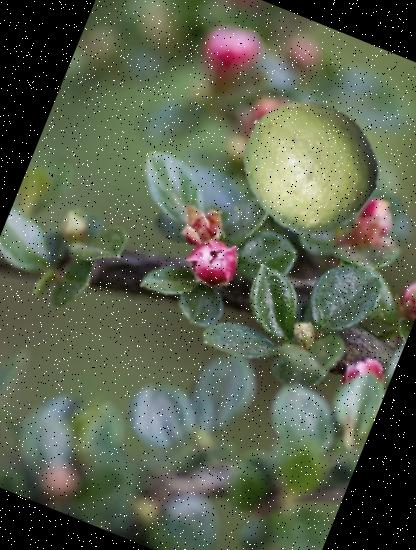Limes: (218, 76, 396, 254)
